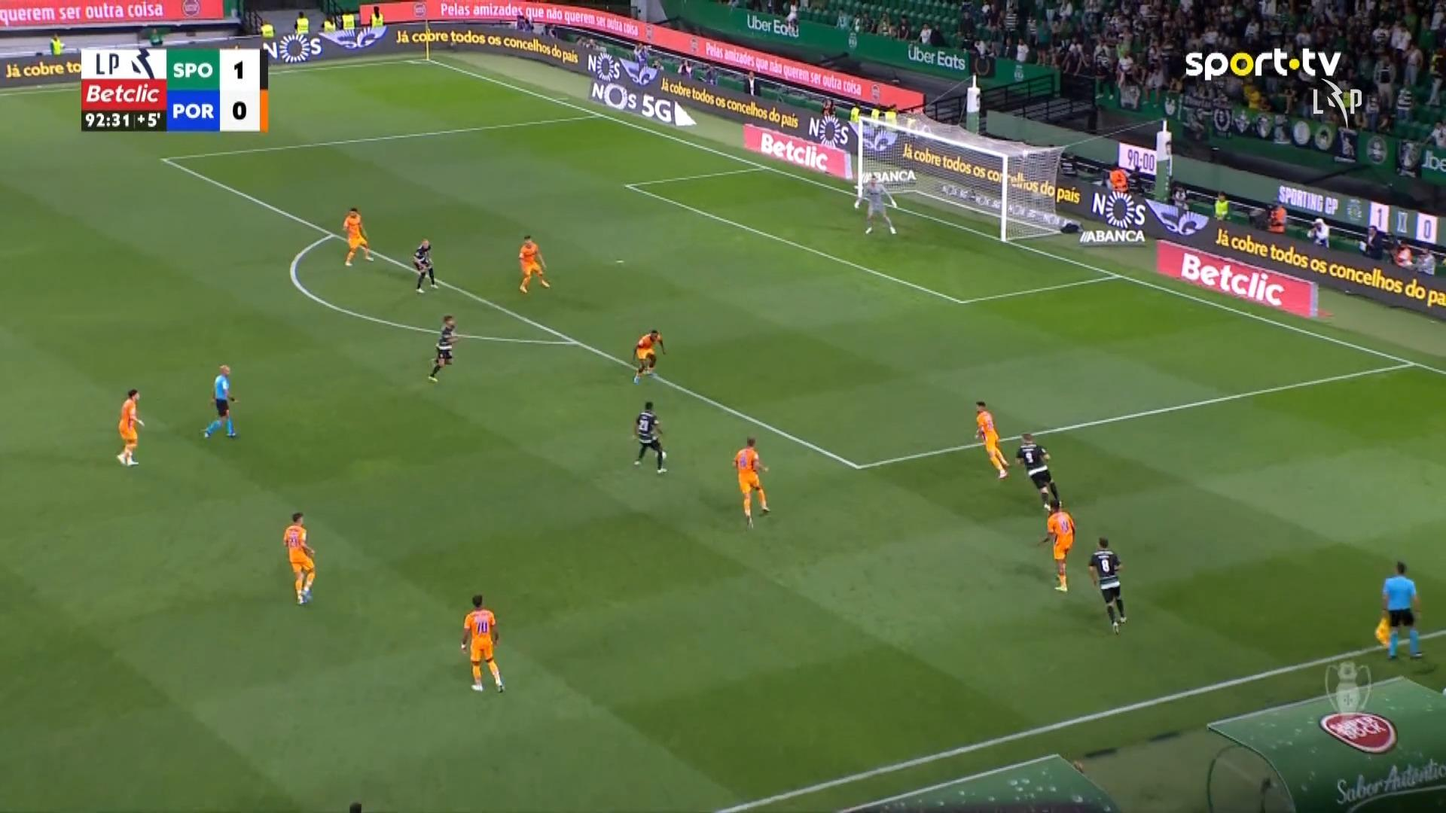ball: (654, 448, 669, 466)
goalkeeper: (854, 172, 898, 235)
player: (459, 593, 505, 693), (1088, 536, 1127, 635), (1035, 498, 1075, 592), (1014, 431, 1059, 513), (732, 435, 770, 528), (282, 511, 316, 605), (974, 400, 1009, 479), (631, 400, 667, 474), (115, 388, 145, 466), (427, 314, 458, 382), (517, 233, 550, 293), (341, 206, 373, 266), (631, 328, 665, 384), (411, 238, 438, 294)
referee: (1377, 560, 1423, 659), (201, 364, 239, 439)
